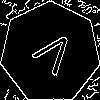V: (25, 27, 79, 84)
